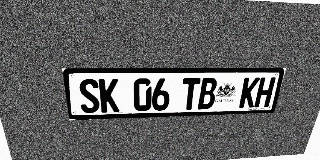0: (133, 78, 152, 111)
6: (152, 78, 171, 111)
B: (197, 78, 218, 109)
H: (254, 77, 276, 107)
K: (238, 77, 260, 108), (99, 79, 119, 113)
S: (78, 79, 100, 113)
T: (181, 78, 201, 110)
